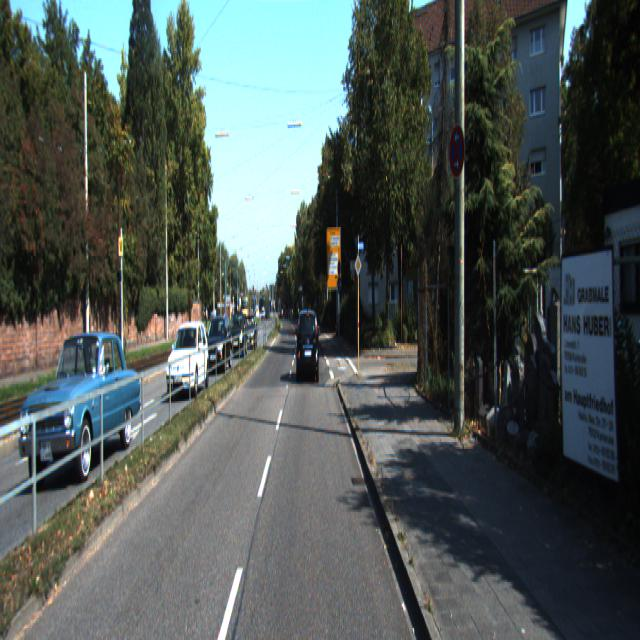Car: (20, 327, 142, 485), (166, 318, 210, 402), (206, 313, 235, 376), (297, 308, 320, 385), (230, 312, 249, 359), (242, 315, 258, 349)
